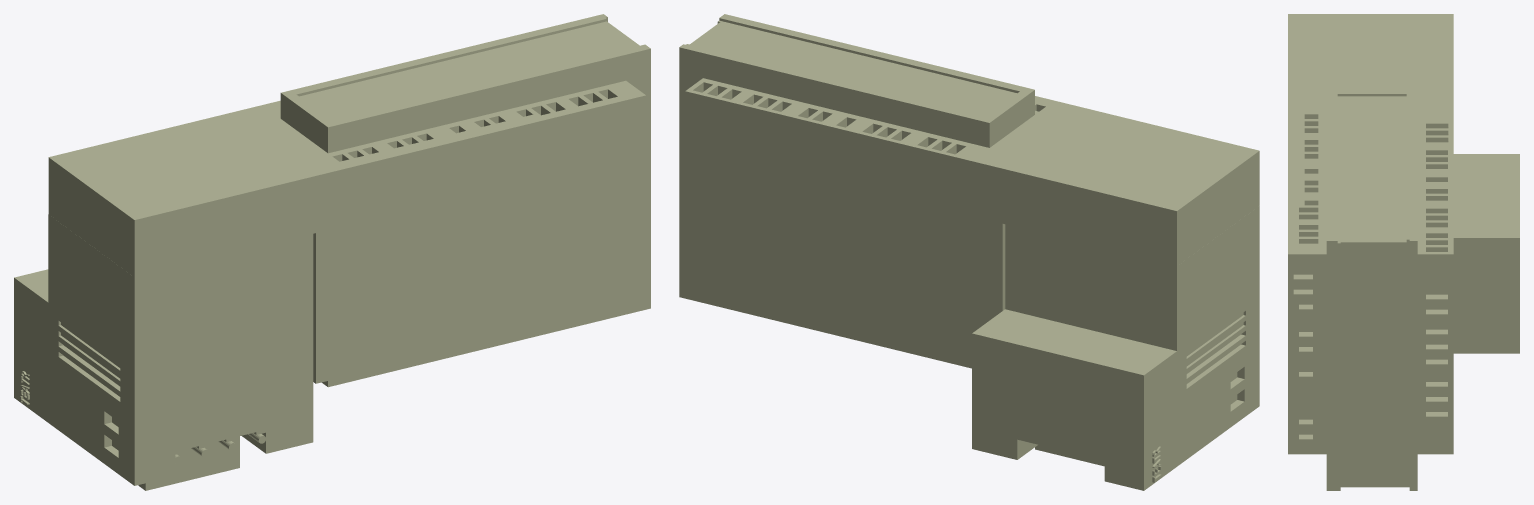
The model's file is Teatr Powszechny w Radomiu Tier 3.obj.
3 views of the same model, side by side, from view 1: azimuth 30°, elevation 25°; view 2: azimuth 150°, elevation 25°; view 3: azimuth 270°, elevation 25° (orthographic). The views are drawn at different scales.
Parts seen in each view (by area): view 1: Teatr_obj_0; view 2: Teatr_obj_0; view 3: Teatr_obj_0.
Part boxes in pixels (x1,y1,x2,y2): Teatr_obj_0: [14, 14, 650, 490]; Teatr_obj_0: [679, 14, 1259, 490]; Teatr_obj_0: [1288, 14, 1519, 490].
Bounding box in the file's own units: 0.039 × 0.0226 × 0.0151.
